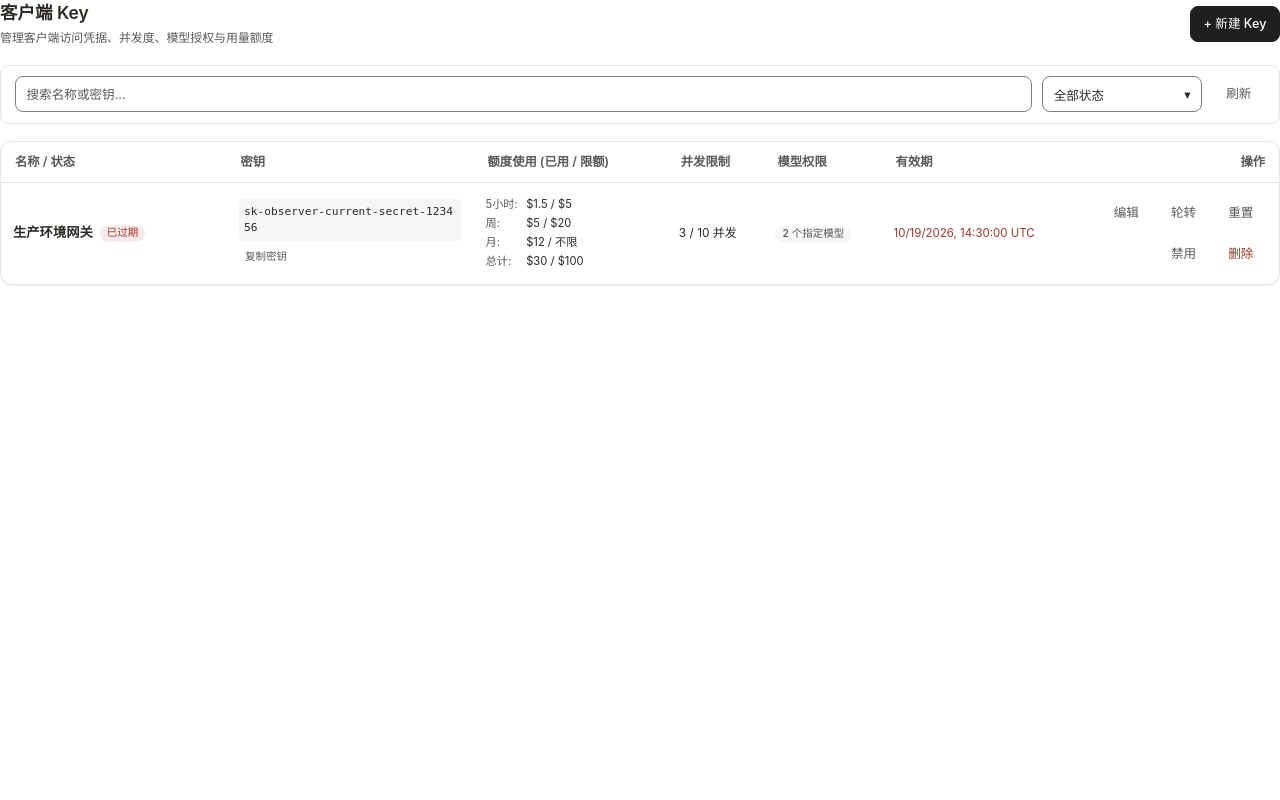
Test case: KeysPage & ModelPicker Behavior Acceptance Tests › conflict保留草稿: preserves user input draft when API responds with 409 Conflict
This screenshot has width=1280, height=800.
Expected: the text "生产环境网关" is shown, [13,223,93,243]
Click the button "+ 新建 Key" at (1235, 24), box [1190,6,1279,42]
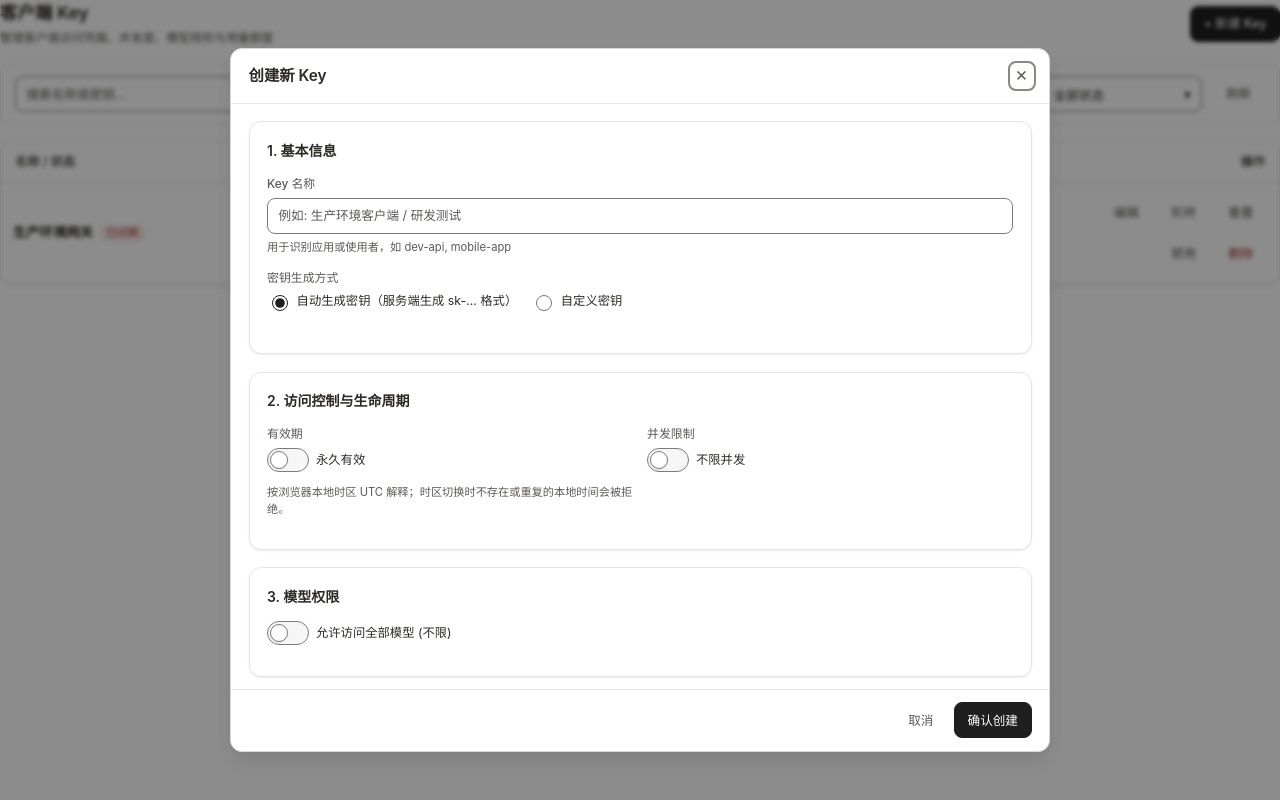
Type "ConflictDraftName" into the field with placeholder "例如: 生产环境客户端 / 研发测试" at (640, 216), box [267,198,1013,234]
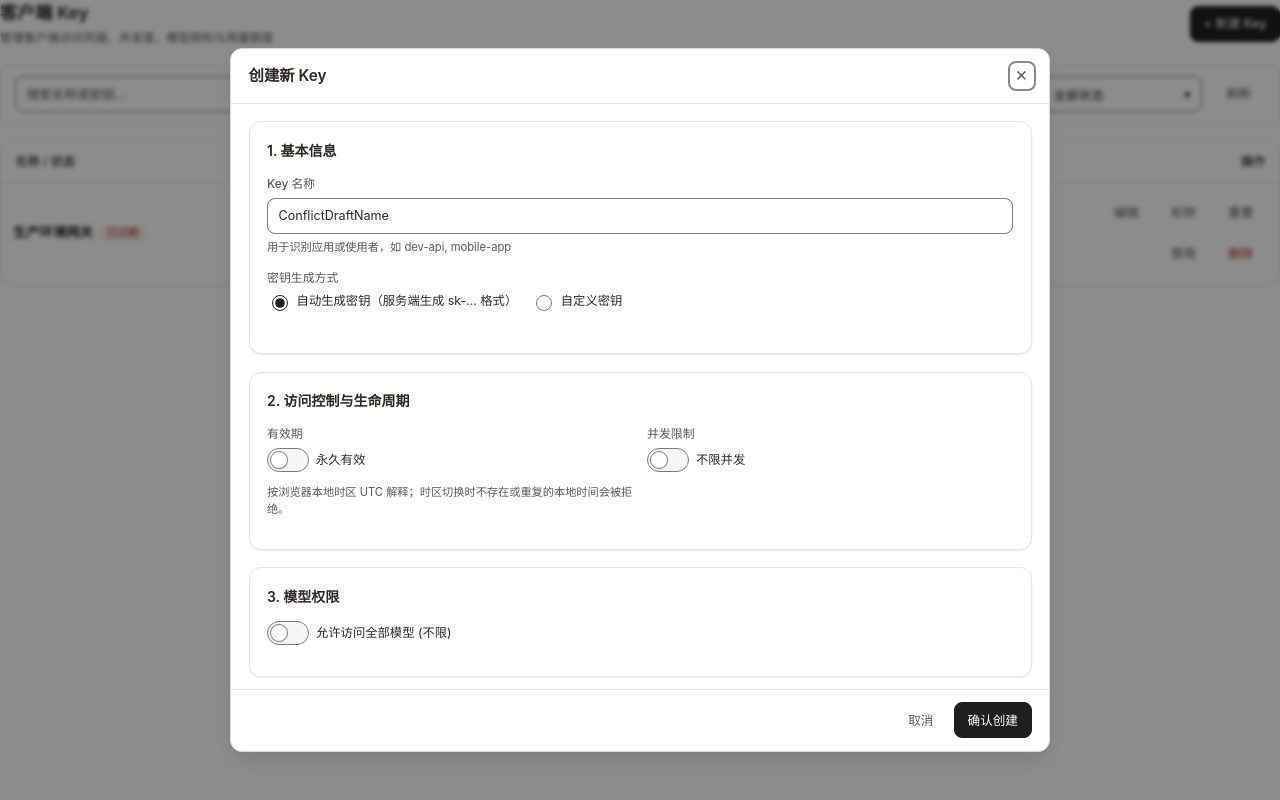
Click the radio button labelled "自定义密钥" at (544, 303), box [536,295,552,311]
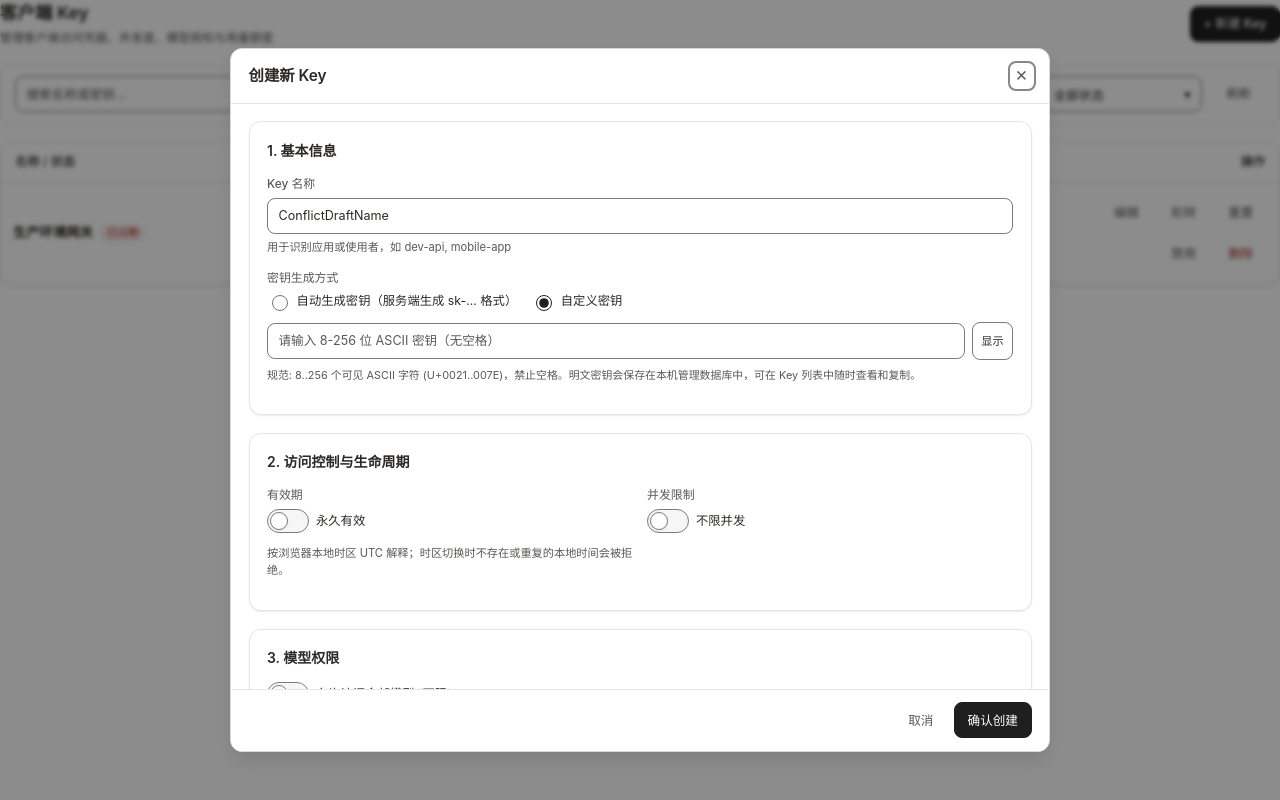
Type "DuplicateSecret123!" into the password field with placeholder "请输入 8-256 位 ASCII 密钥（无空格）" at (616, 341), box [267,323,965,359]
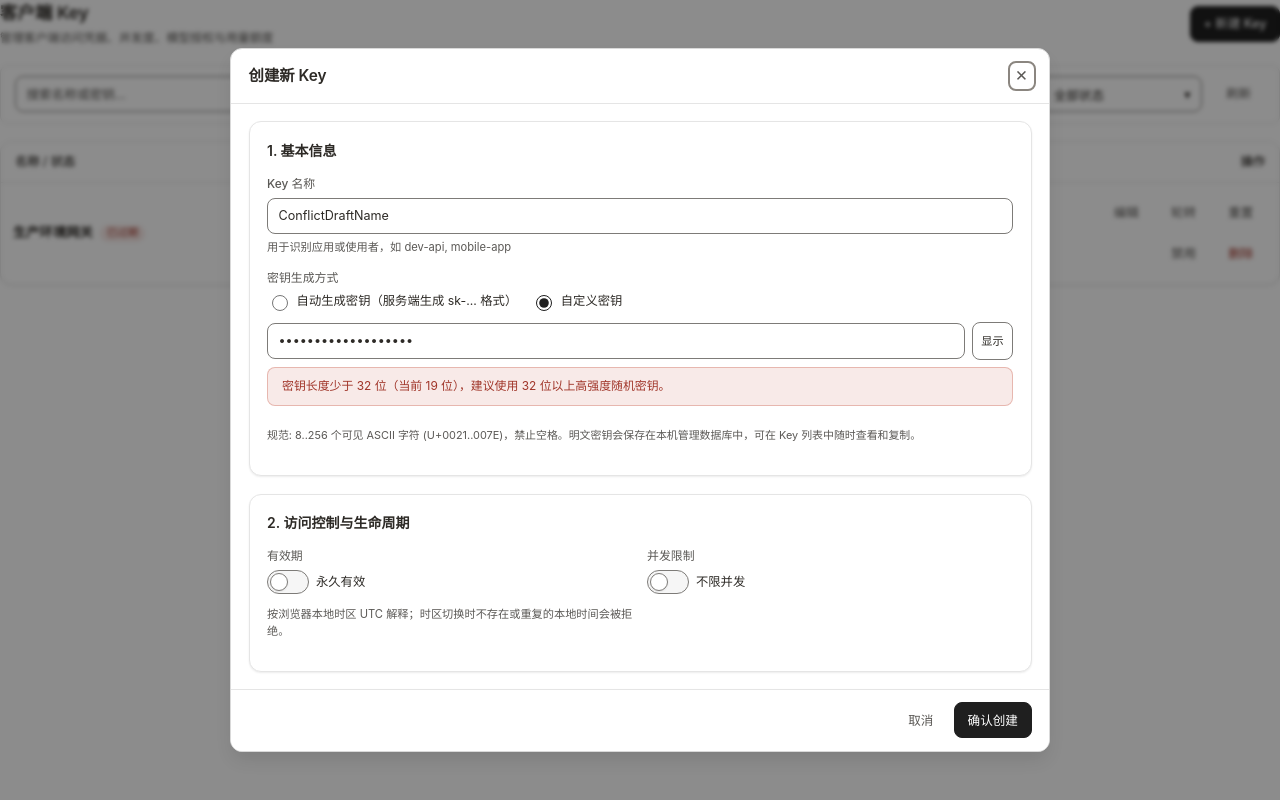
Click the button "确认创建" at (993, 720), box [954,702,1032,738]
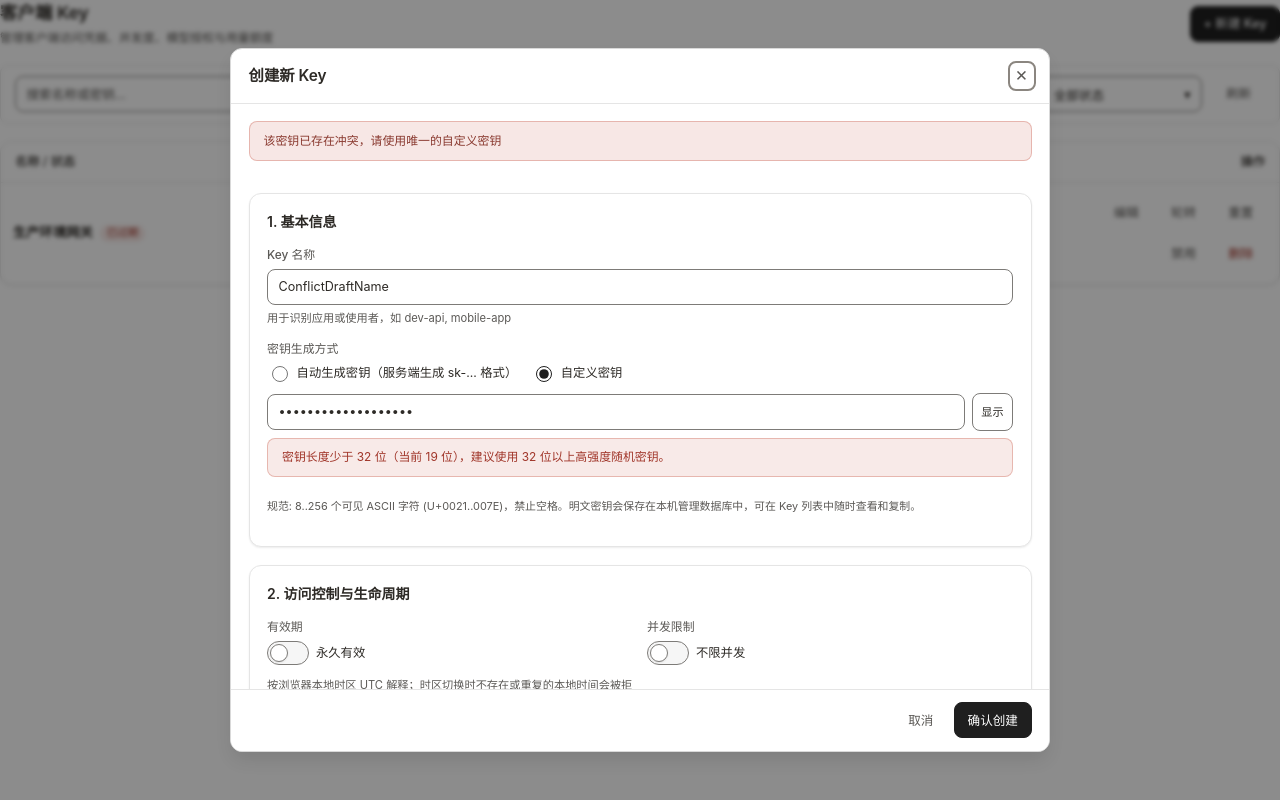
Now the text "该密钥已存在冲突，请使用唯一的自定义密钥" is shown, box [248,121,1032,161]
